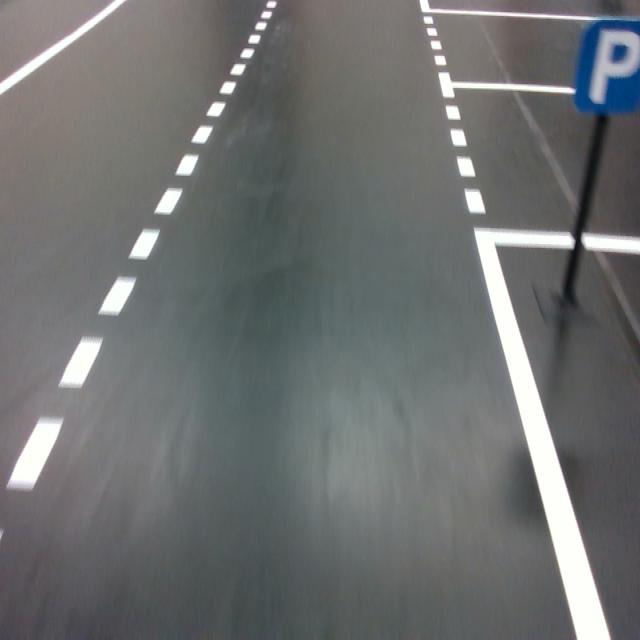parking-sign: (573, 20, 640, 113)
